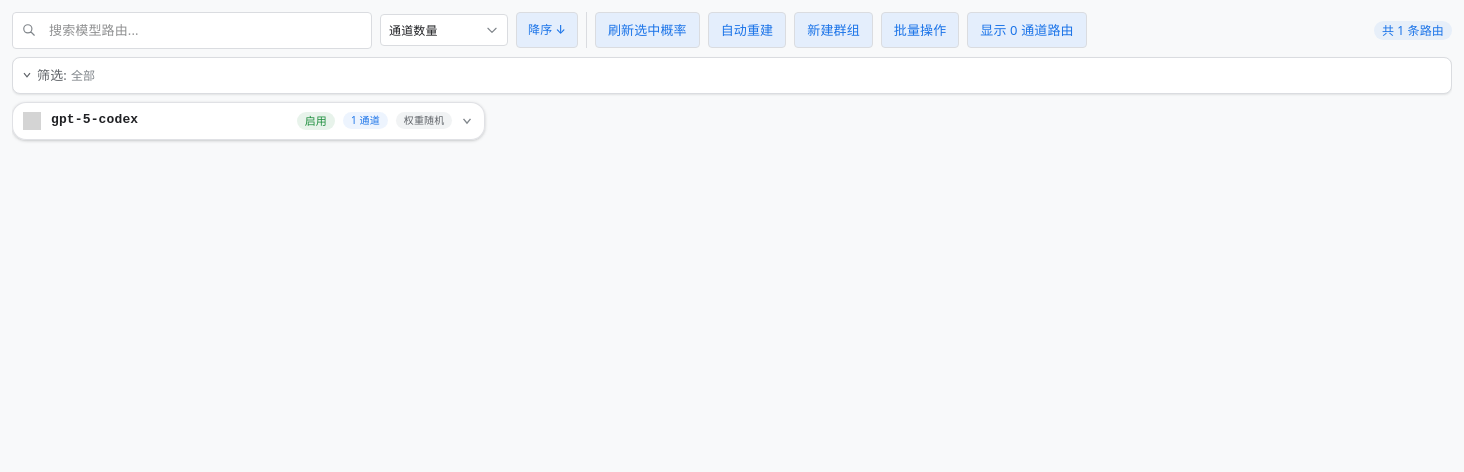
Scenario: TokenRoutes grouped source models › shows oauth route unit summary and member details after expanding a pooled route
Click the button "gpt-5-codex 启用 1 通道 权重随机": (95, 120) x1=12 y1=102 x2=485 y2=140
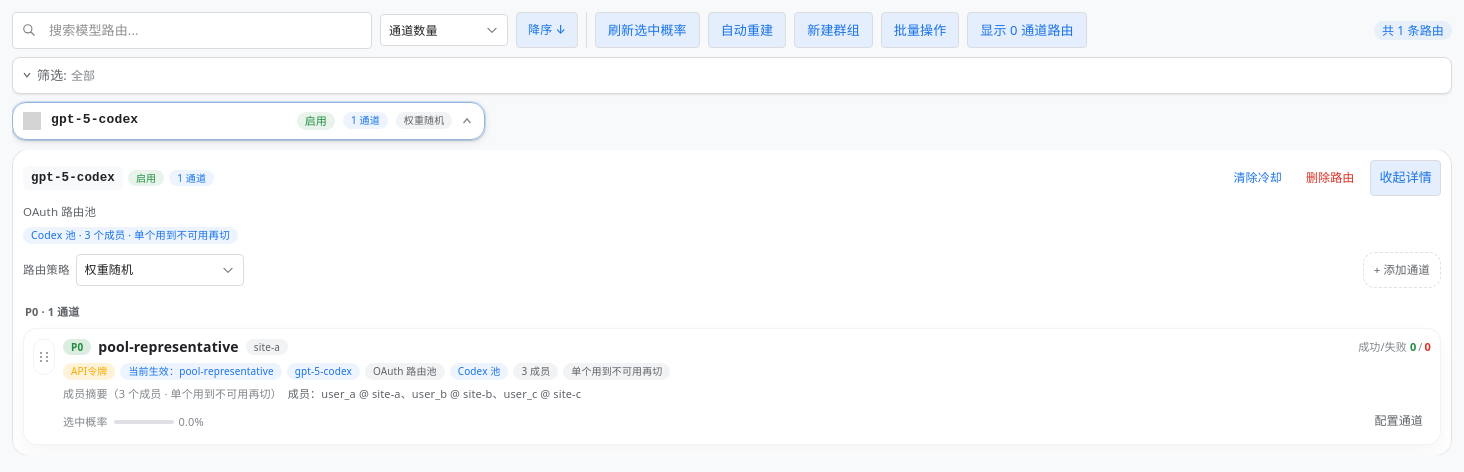
Expected: the text "OAuth 路由池" is shown, x1=23 y1=204 x2=96 y2=219
Expected: the text "Codex 池" is shown, x1=31 y1=227 x2=76 y2=241
Expected: the text "3 个成员" is shown, x1=23 y1=226 x2=238 y2=244
